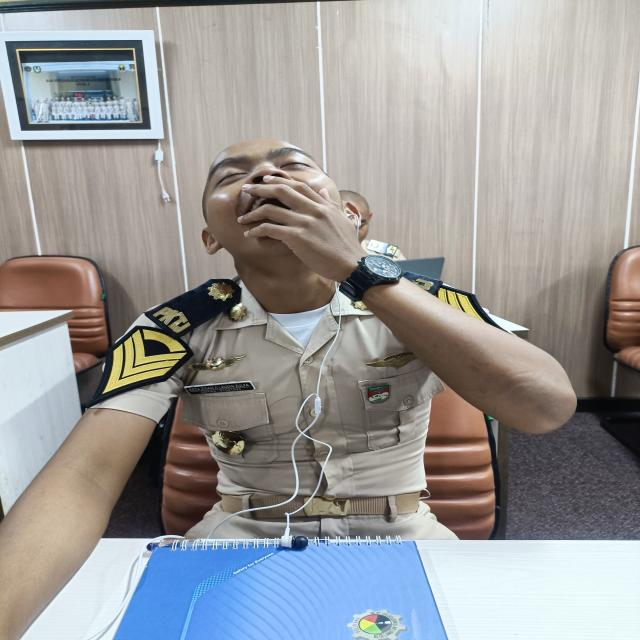7_mano_rostro: (236, 174, 361, 271)
